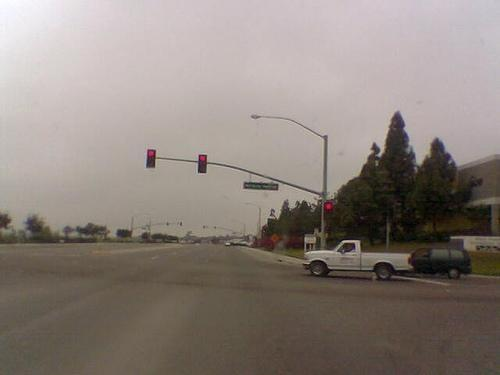car: (410, 248, 472, 280), (52, 238, 72, 244)
truck: (302, 240, 415, 280), (410, 247, 473, 280)
